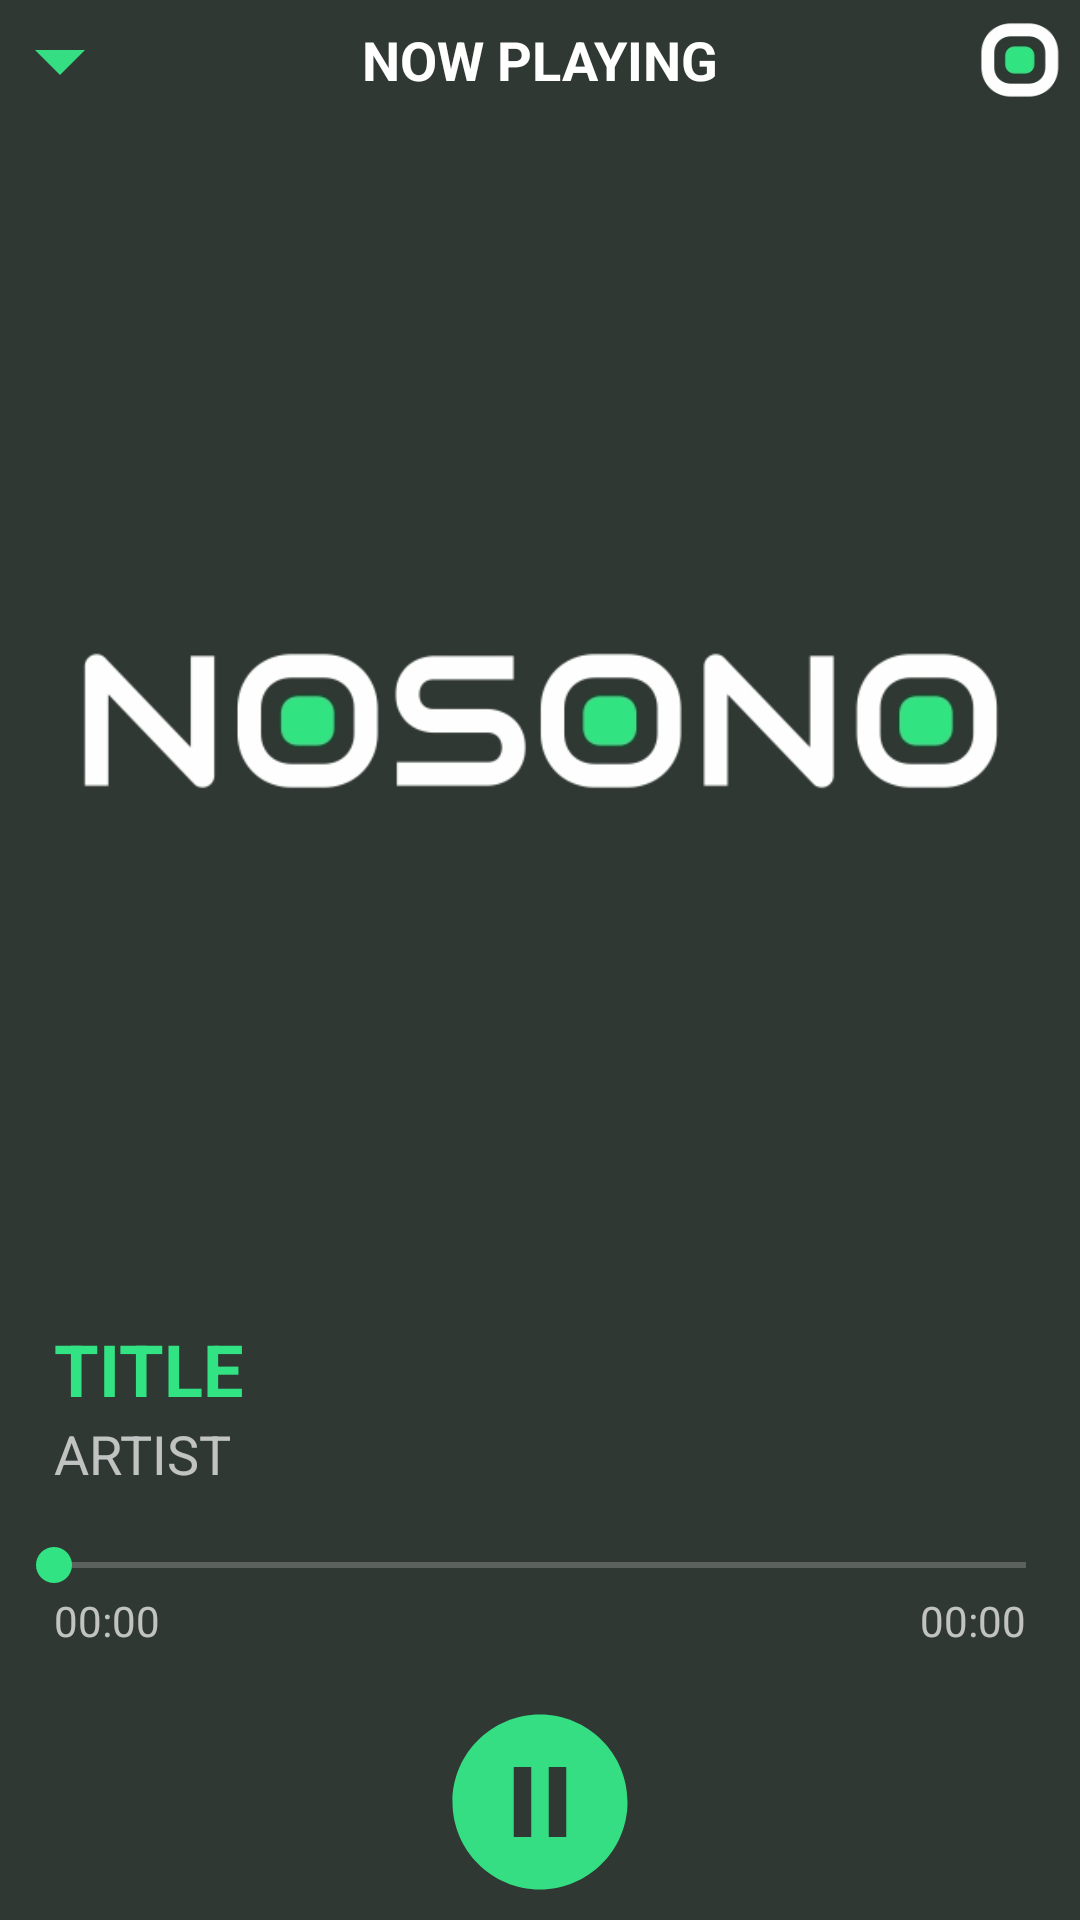

Named icons in this screenshot (1080x1920) and their centers, point (x, y):
pause circle: point (540, 1802)
